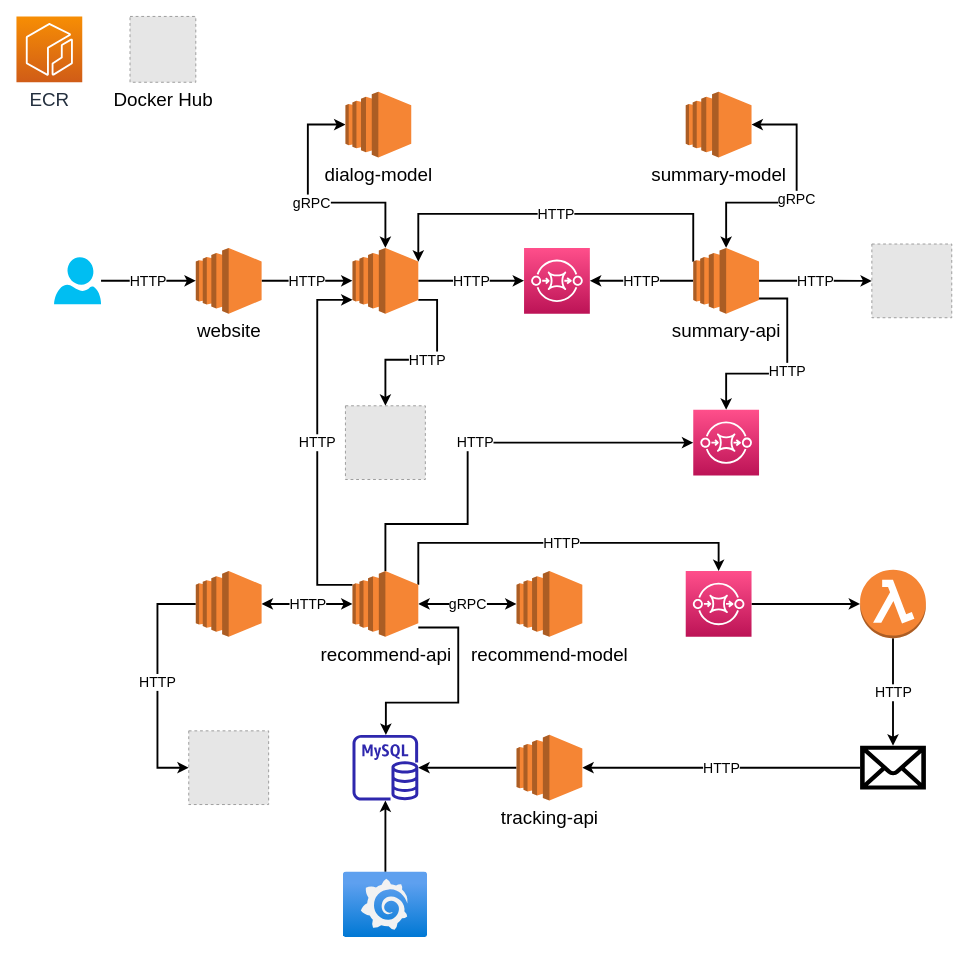
The diagram is 968 pixels wide and 954 high, and some of its shapes have lost their labels. Grey dashed boxes stand in for pictures. Here are the shapes that lost their labels. From the top down, the box of each, then its label:
(352, 247, 418, 314): dialog-api
(523, 247, 590, 314): summary-queue
(692, 409, 759, 476): recommend-queue
(195, 570, 262, 637): categories-api
(685, 570, 752, 637): email-queue
